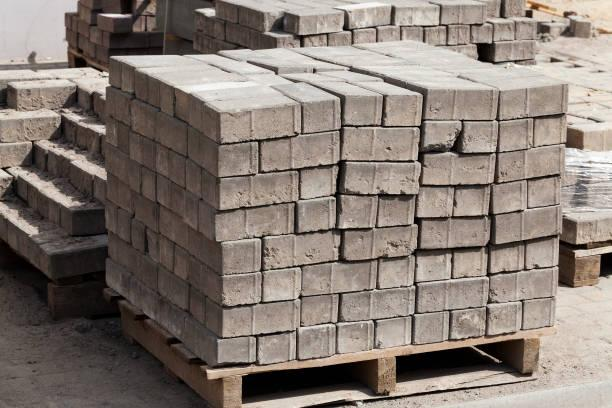Bricks: (106, 260, 191, 344), (184, 163, 298, 207), (197, 201, 304, 245), (205, 300, 301, 339), (187, 257, 260, 308), (186, 319, 259, 369), (187, 131, 259, 180), (260, 130, 340, 173), (189, 228, 261, 275), (346, 283, 421, 328), (343, 223, 420, 266), (225, 104, 299, 144), (342, 127, 424, 163), (418, 280, 490, 321), (492, 203, 565, 243), (127, 101, 185, 150), (263, 232, 342, 267), (108, 237, 158, 291), (419, 219, 493, 253), (339, 163, 418, 194), (493, 148, 564, 181), (419, 153, 497, 183), (191, 81, 278, 107), (500, 87, 565, 121), (208, 93, 296, 118), (490, 270, 553, 302), (449, 60, 535, 83), (153, 180, 199, 223), (424, 92, 497, 119), (483, 69, 562, 92), (256, 265, 302, 304), (105, 149, 146, 192), (271, 80, 336, 107), (336, 316, 377, 357), (299, 163, 342, 202), (258, 328, 299, 368), (337, 195, 381, 232), (177, 76, 260, 94), (374, 258, 415, 294), (156, 264, 188, 310), (314, 79, 383, 100), (154, 206, 187, 249), (304, 266, 368, 288), (298, 197, 336, 234), (375, 315, 415, 348), (297, 326, 334, 361), (155, 146, 186, 187), (451, 249, 489, 282), (416, 310, 450, 346), (379, 194, 417, 226), (104, 173, 134, 213), (391, 68, 461, 85), (455, 303, 484, 344), (527, 174, 560, 210), (522, 238, 560, 269), (417, 256, 458, 284), (302, 295, 343, 323), (362, 78, 418, 98), (421, 186, 456, 218), (301, 104, 338, 134), (383, 97, 417, 129), (455, 185, 489, 217), (426, 124, 465, 151), (199, 107, 225, 147), (500, 121, 531, 154), (465, 122, 499, 152), (493, 302, 523, 336), (132, 132, 157, 171), (495, 184, 527, 214), (174, 91, 202, 124), (412, 80, 494, 91), (490, 243, 522, 271), (523, 297, 550, 330), (136, 195, 158, 235), (183, 286, 206, 322), (536, 116, 565, 144), (150, 78, 173, 112), (345, 99, 377, 123), (101, 203, 121, 235), (132, 223, 150, 254), (159, 242, 176, 274), (117, 212, 133, 244), (148, 234, 162, 261), (177, 252, 187, 277)
